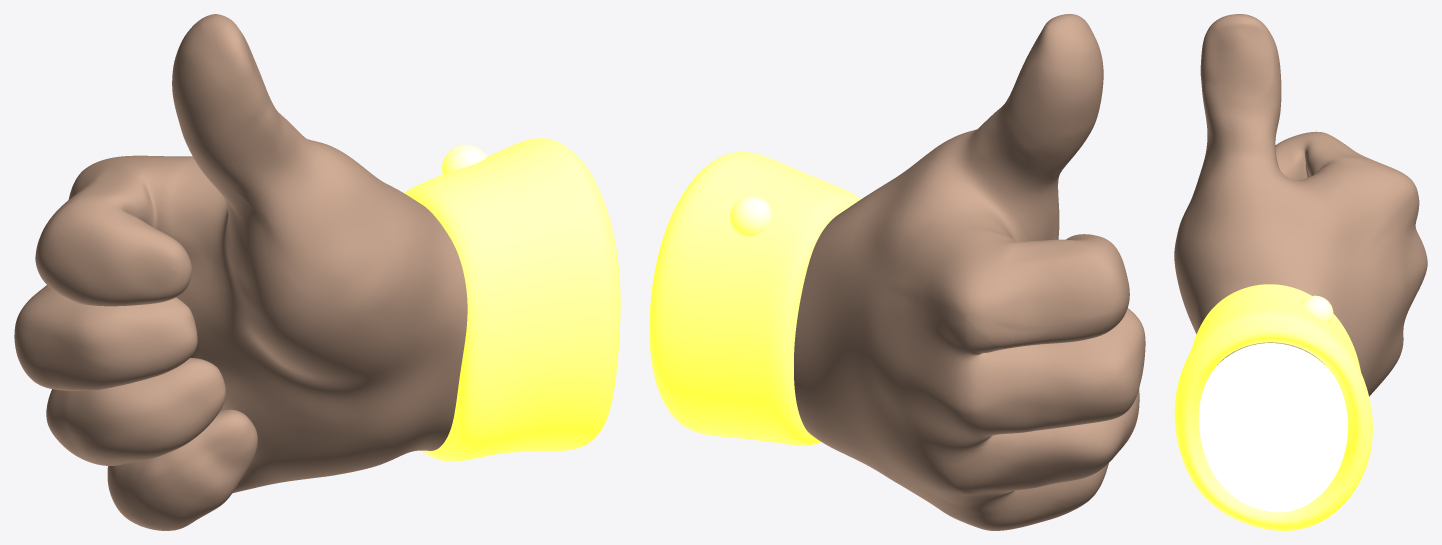
Rendered from ThumbsUp.glb.
3 renders of one model, left to right at view 1: azimuth 30°, elevation 25°; view 2: azimuth 150°, elevation 25°; view 3: azimuth 270°, elevation 25°, orthographic. The views are drawn at different scales.
Parts seen in each view (by area): view 1: Object_8, Object_5; view 2: Object_8, Object_5; view 3: Object_8, Object_3, Object_5.
Boxes of the visible parts, x1,y1,x2,y2 form: Object_8: (14, 14, 467, 530); Object_5: (404, 138, 620, 461); Object_8: (794, 14, 1145, 530); Object_5: (649, 152, 860, 445); Object_8: (1174, 14, 1427, 396); Object_3: (1199, 343, 1347, 512); Object_5: (1174, 284, 1372, 530).
Bounding box in the file's own units: 2.38 × 2.27 × 1.34.
